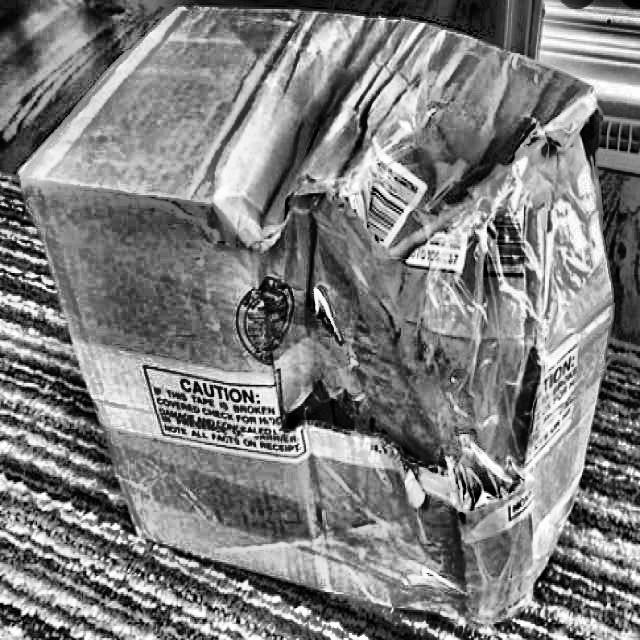box: (6, 0, 609, 627)
hole: (271, 377, 415, 477)
